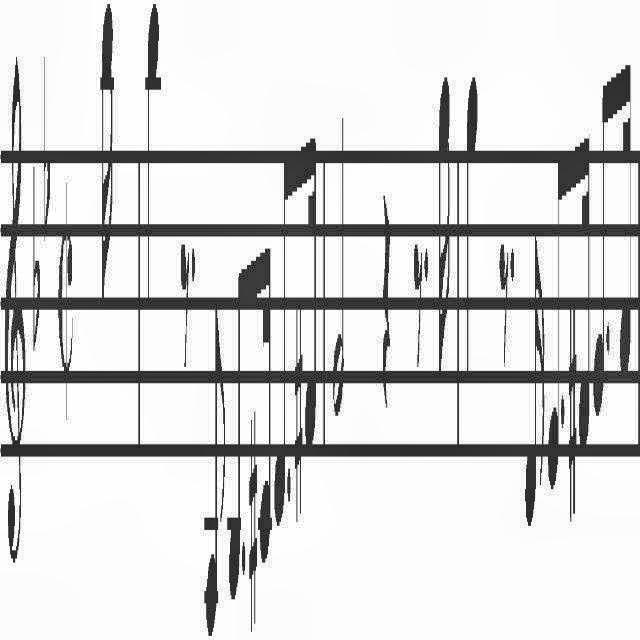Bass-clef: (2, 54, 28, 576)
Bemol: (41, 57, 50, 247), (32, 162, 40, 362)
Diez: (248, 404, 258, 636), (567, 298, 577, 522), (294, 298, 302, 522)
Eighth-note: (204, 290, 226, 638), (592, 30, 606, 422), (227, 250, 241, 610), (274, 125, 286, 541), (548, 114, 560, 500)
Eighth-rest: (412, 223, 422, 373), (499, 230, 509, 378), (179, 234, 189, 372)
Half-note: (332, 106, 344, 430)
Quarter-note: (464, 76, 480, 384), (146, 1, 158, 316)
Sixteenth-note: (524, 214, 544, 538), (436, 60, 452, 392), (100, 0, 116, 326), (304, 107, 318, 466), (260, 192, 272, 576), (578, 103, 590, 473), (620, 49, 632, 392)
